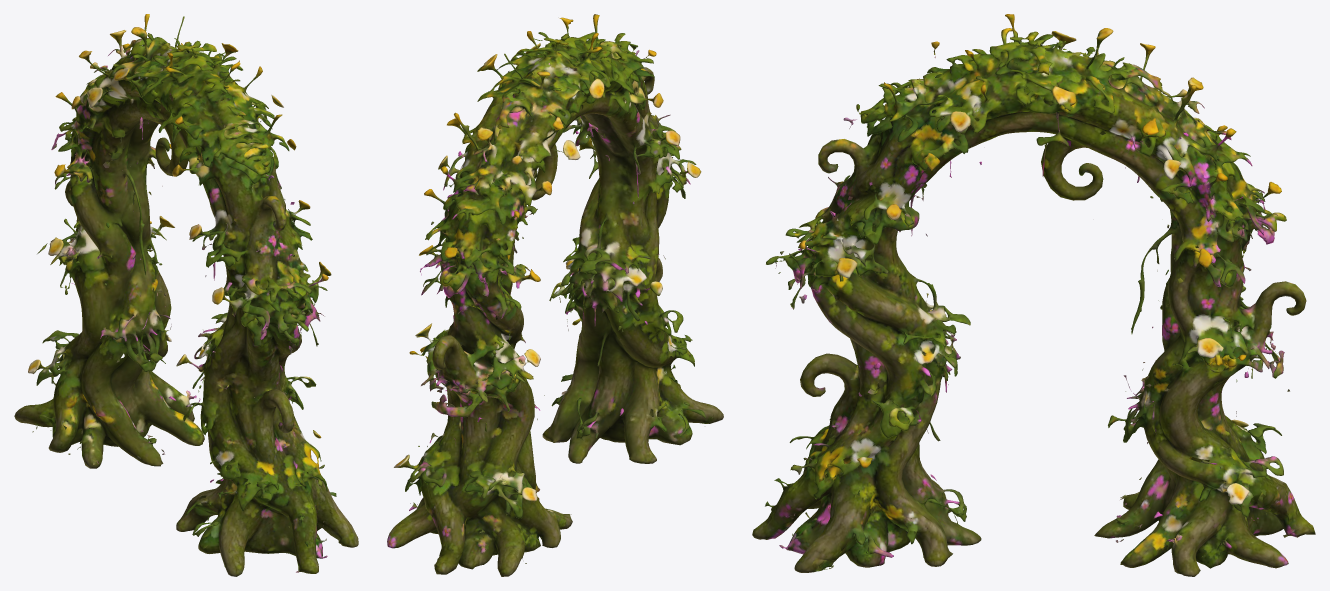
3 renders of one model, left to right at view 1: azimuth 30°, elevation 25°; view 2: azimuth 150°, elevation 25°; view 3: azimuth 270°, elevation 25°, orthographic. The views are drawn at different scales.
Visible parts, largest first — view 1: tripo_node_16e27bb4-1fdf-4586-af84-d81a03105fcf; view 2: tripo_node_16e27bb4-1fdf-4586-af84-d81a03105fcf; view 3: tripo_node_16e27bb4-1fdf-4586-af84-d81a03105fcf.
Boxes of the visible parts, x1,y1,x2,y2 form: tripo_node_16e27bb4-1fdf-4586-af84-d81a03105fcf: (14,14,358,576); tripo_node_16e27bb4-1fdf-4586-af84-d81a03105fcf: (387,14,723,576); tripo_node_16e27bb4-1fdf-4586-af84-d81a03105fcf: (752,14,1315,576).
Size of the model in its own units: 0.3227 by 0.9502 by 0.9554.
Materials: 1 (1 with a texture image).
